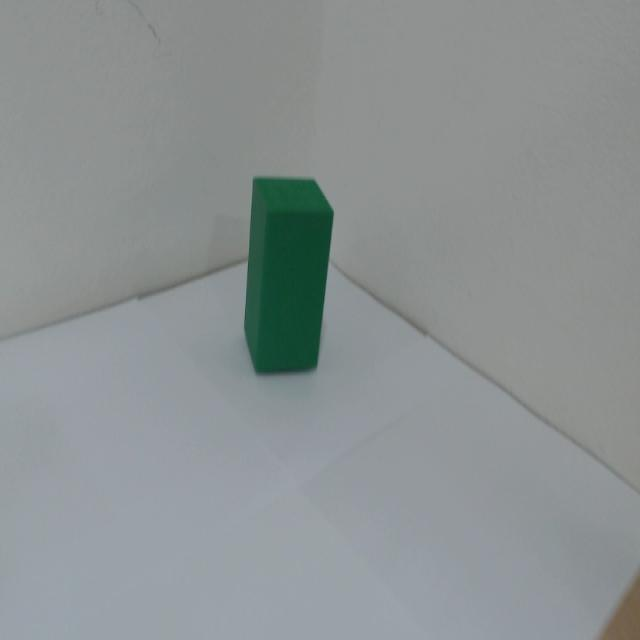cube: (227, 141, 331, 408)
